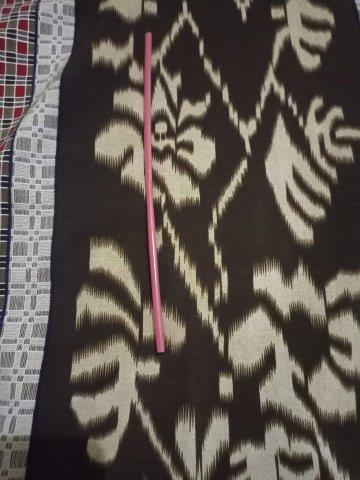sedotan: (144, 32, 164, 352)
